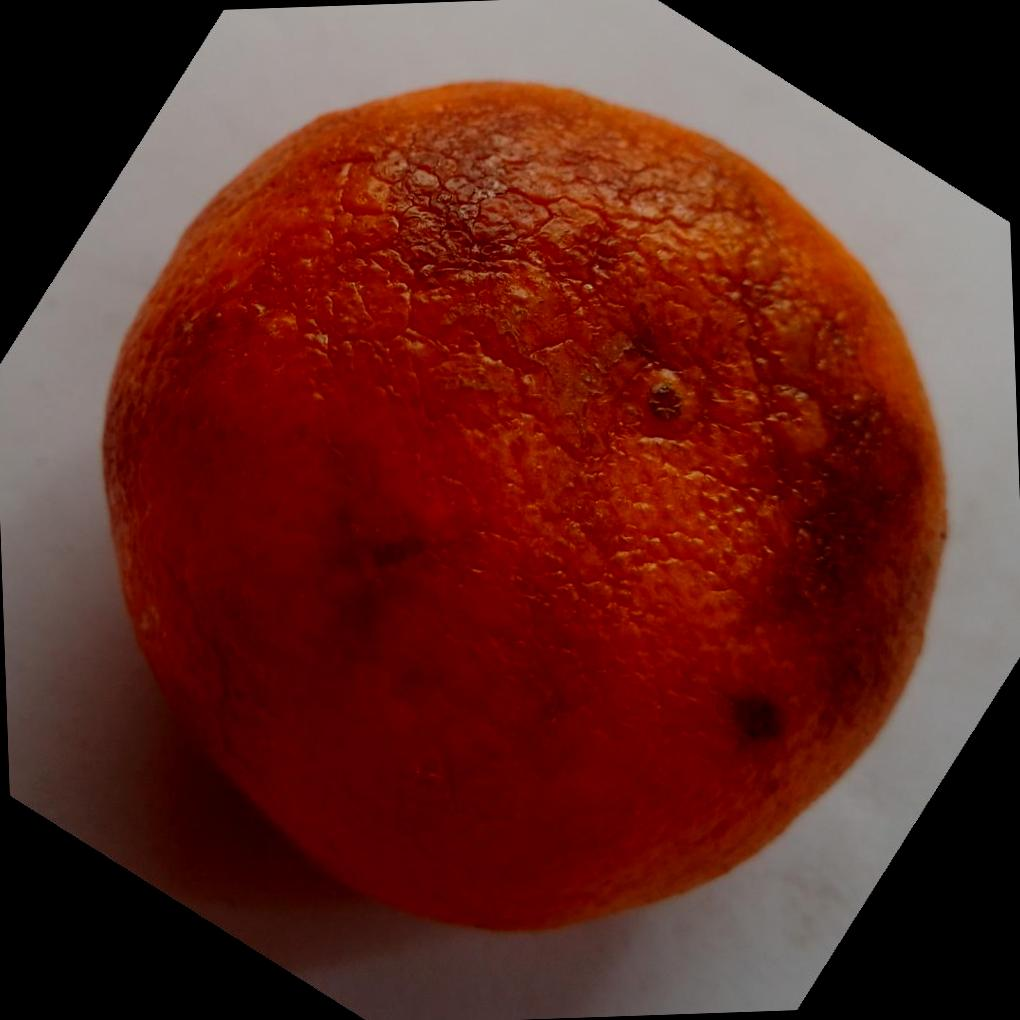FreshOrange: (100, 82, 951, 938)
